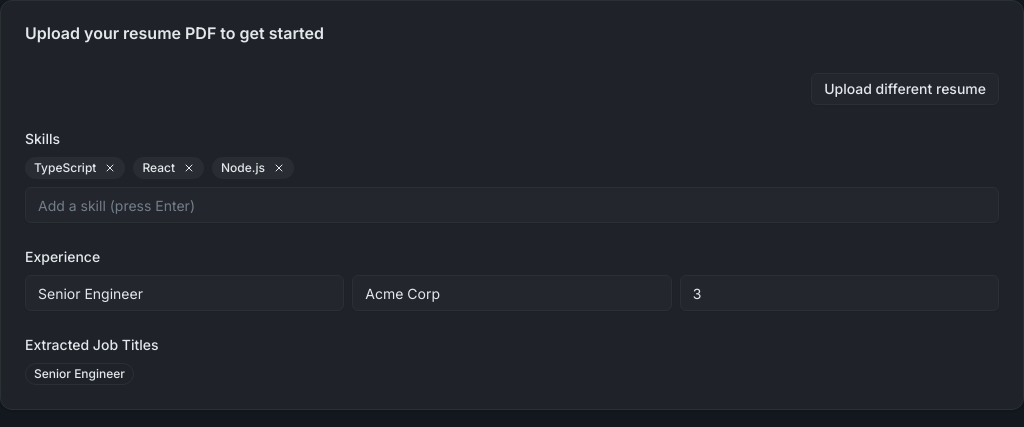
ResumeStep › parsed data display › [P1] should remove skill when x button is clicked
Click the button named "Remove TypeScript" at x=110, y=168, box [104,162,116,174]
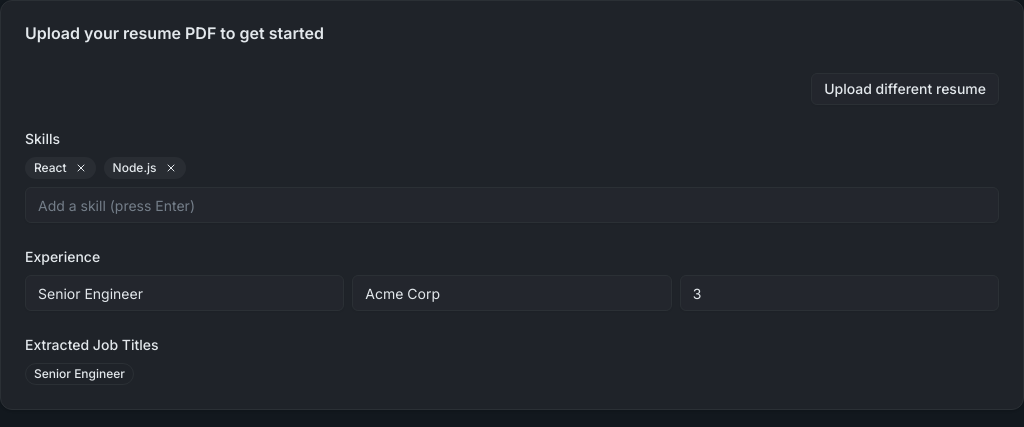
expect the text "TypeScript" is gone: met
